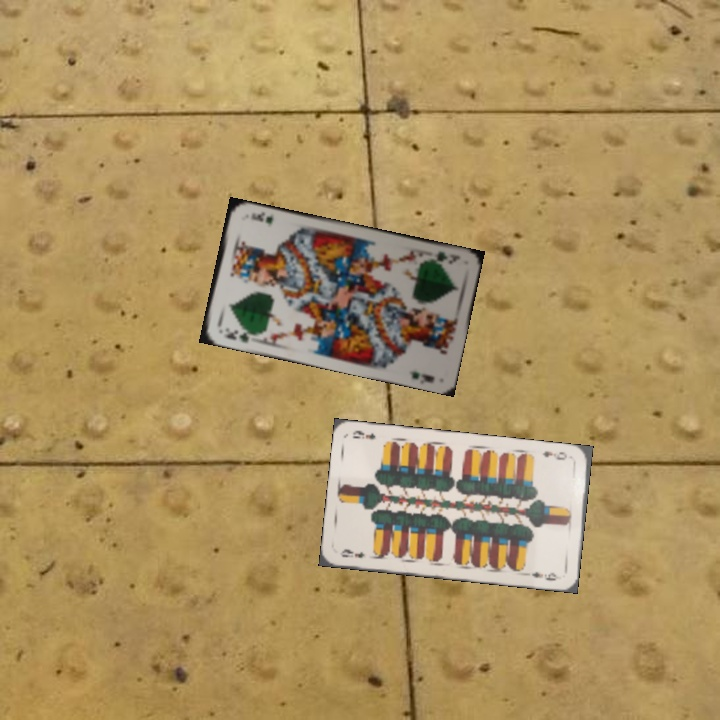E9: (538, 447, 570, 463), (336, 545, 368, 560)
GK: (220, 323, 257, 346), (425, 248, 463, 267)
